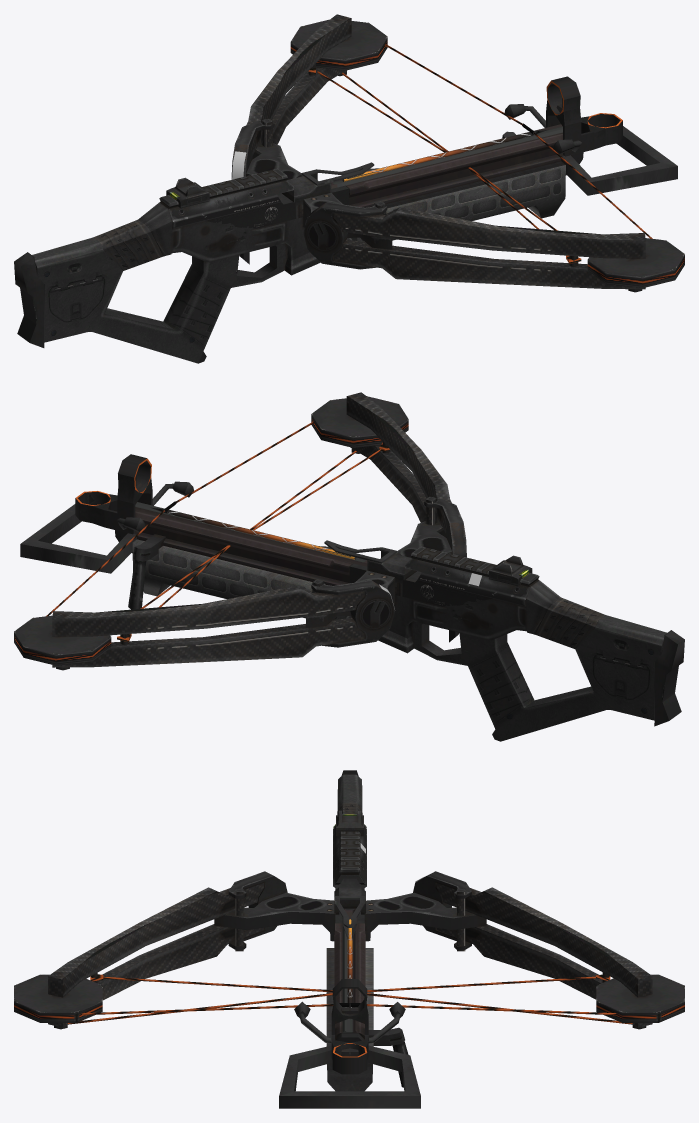
The model's file is t6_wpn_crossbow_stow_LOD0.obj.
3 views of the same model, one above another, from view 1: azimuth 30°, elevation 25°; view 2: azimuth 150°, elevation 25°; view 3: azimuth 270°, elevation 25° (orthographic). The views are drawn at different scales.
Parts seen in each view (by area): view 1: mtl_t6_wpn_crossbow, mtl_t6_wpn_crossbow_camo1, mtl_t6_wpn_crossbow_camo2, mtl_t6_wpn_crossbow_camo3; view 2: mtl_t6_wpn_crossbow, mtl_t6_wpn_crossbow_camo1, mtl_t6_wpn_crossbow_camo2, mtl_t6_wpn_crossbow_camo3; view 3: mtl_t6_wpn_crossbow_camo1, mtl_t6_wpn_crossbow, mtl_t6_wpn_crossbow_camo2, mtl_t6_wpn_crossbow_camo3.
Boxes of the visible parts, x1=… form: mtl_t6_wpn_crossbow: x1=32, y1=19, x2=684, y2=363; mtl_t6_wpn_crossbow_camo1: x1=93, y1=18, x2=677, y2=289; mtl_t6_wpn_crossbow_camo2: x1=14, y1=14, x2=677, y2=347; mtl_t6_wpn_crossbow_camo3: x1=169, y1=120, x2=562, y2=363; mtl_t6_wpn_crossbow: x1=14, y1=396, x2=666, y2=741; mtl_t6_wpn_crossbow_camo1: x1=20, y1=396, x2=605, y2=667; mtl_t6_wpn_crossbow_camo2: x1=21, y1=392, x2=684, y2=726; mtl_t6_wpn_crossbow_camo3: x1=135, y1=498, x2=529, y2=741; mtl_t6_wpn_crossbow_camo1: x1=48, y1=803, x2=652, y2=1108; mtl_t6_wpn_crossbow: x1=14, y1=774, x2=684, y2=1042; mtl_t6_wpn_crossbow_camo2: x1=48, y1=770, x2=652, y2=1095; mtl_t6_wpn_crossbow_camo3: x1=228, y1=825, x2=471, y2=1035.
Size of the model in its own units: 73.33 by 21.2 by 69.66.
